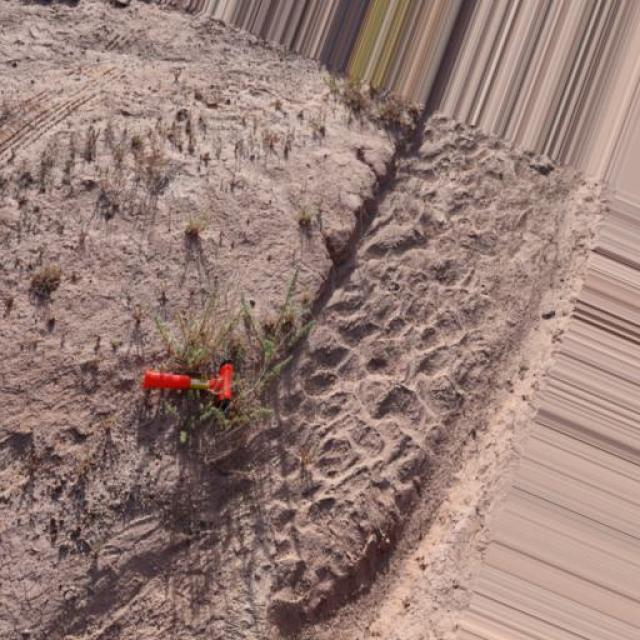mallet: (140, 360, 235, 411)
